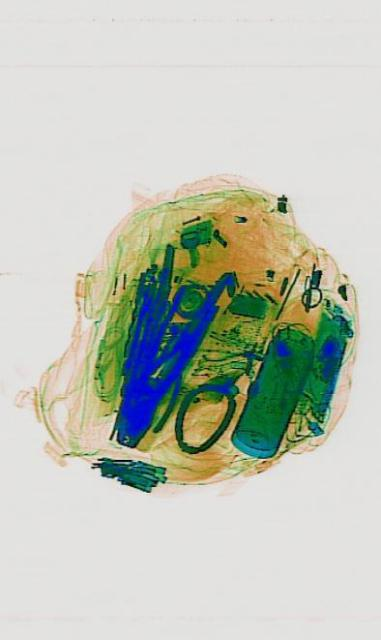Pliers: (94, 218, 231, 472), (131, 308, 202, 438)
